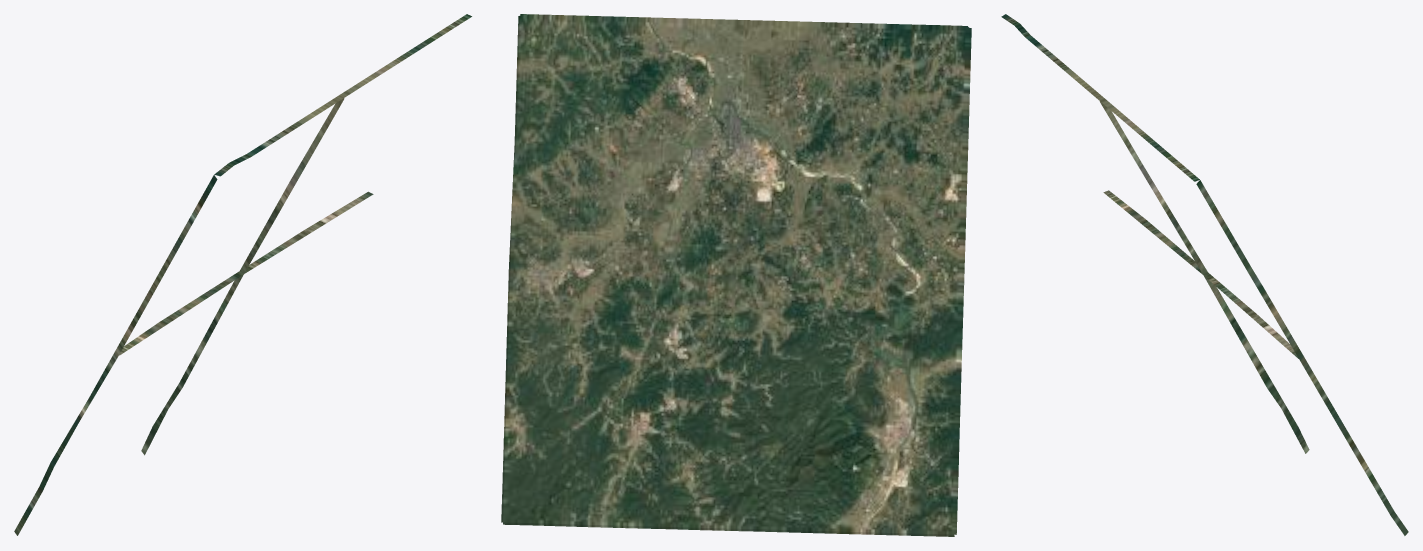
3 renders of one model, left to right at view 1: azimuth 30°, elevation 25°; view 2: azimuth 150°, elevation 25°; view 3: azimuth 270°, elevation 25°, orthographic. The views are drawn at different scales.
Bounding box in the file's own units: 79035 × 70117 × 64786.
1 material, 1 textured.
